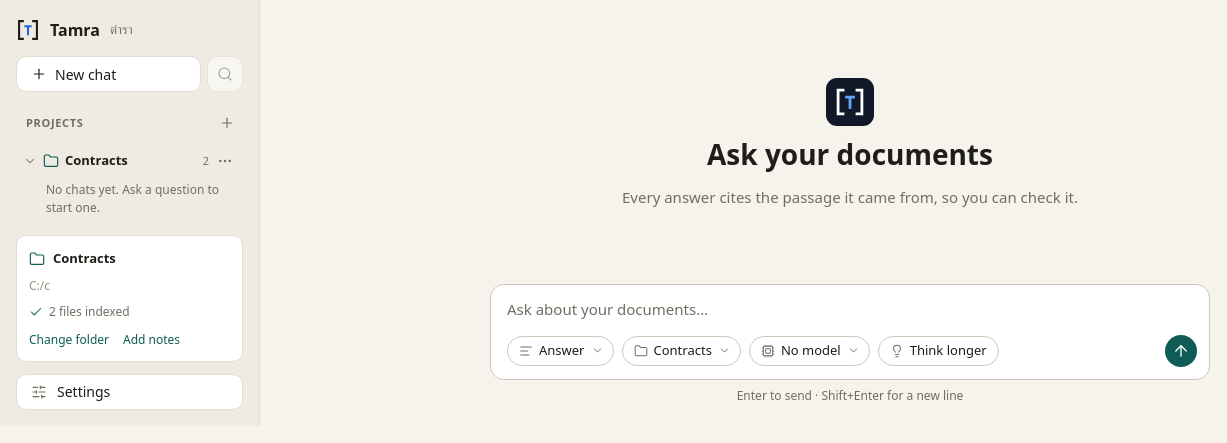
Scenario: The project menu › closes with Esc and returns to the ⋯ button
Click the button named "Options for project Contracts" at (225,161), box [211,147,239,175]
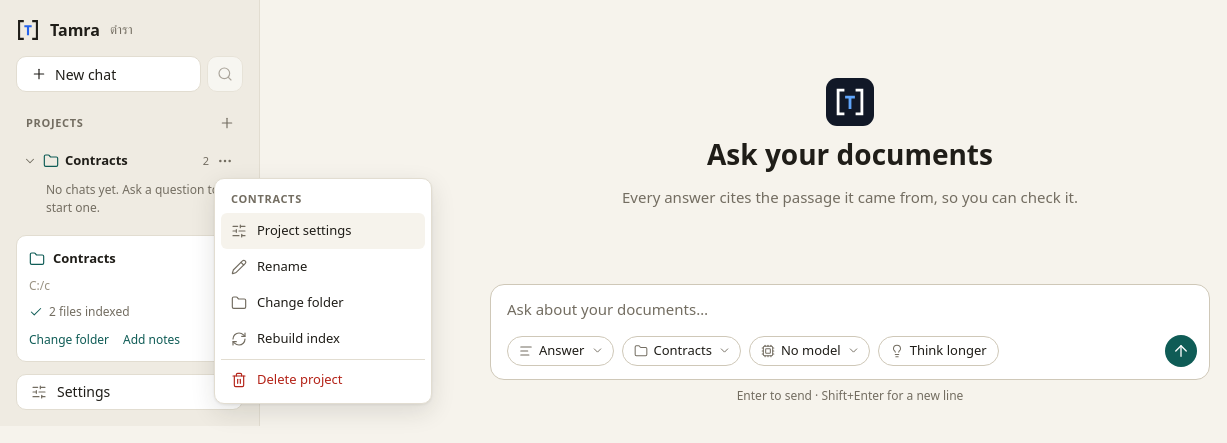
Press Escape in the menu, box [214,178,432,404]
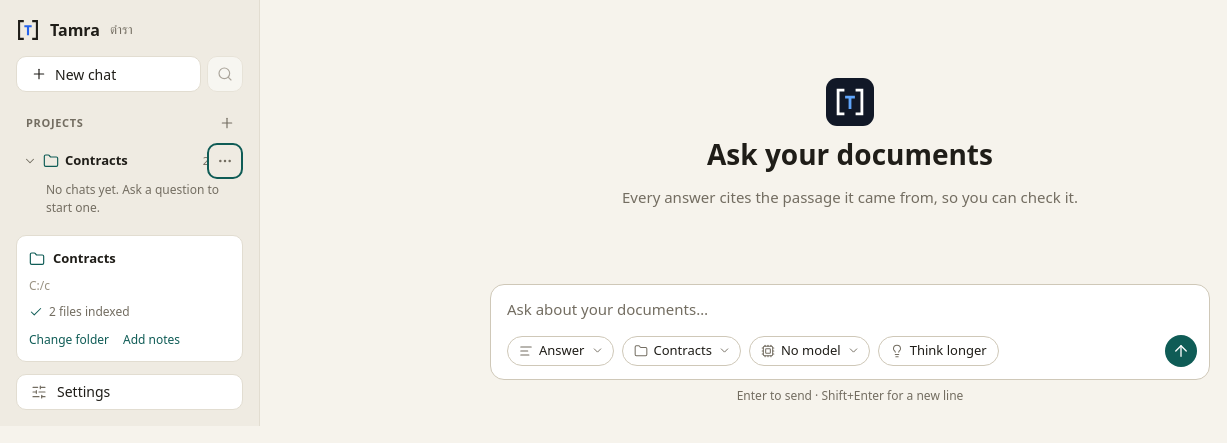
Result: the menu is gone
